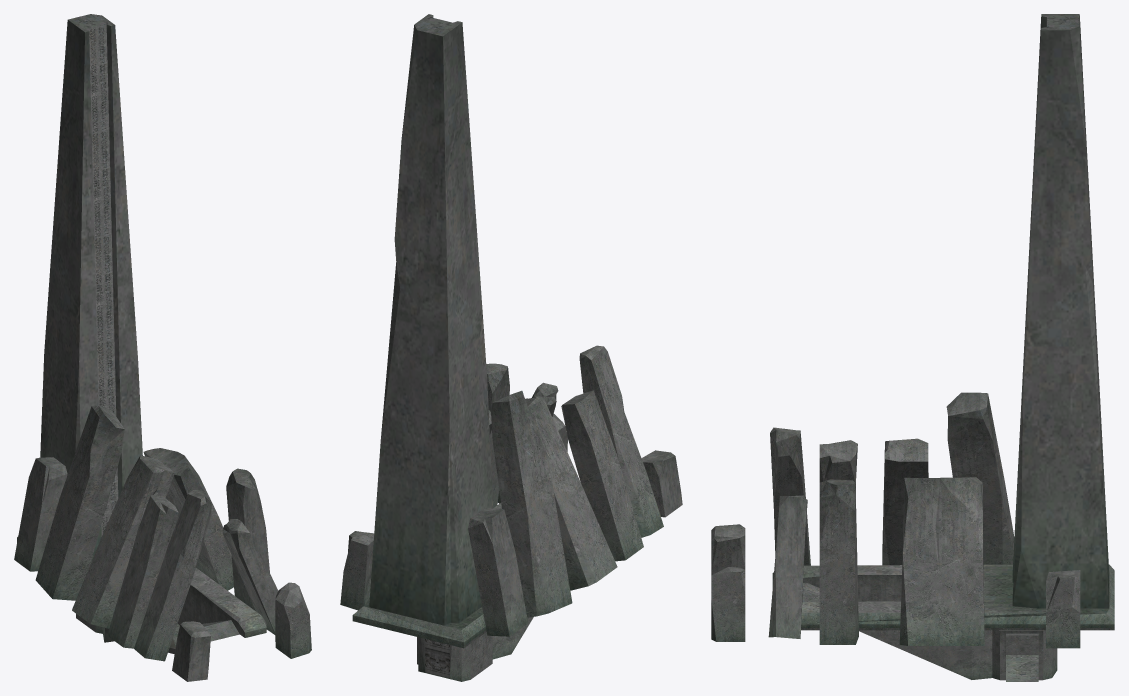
The model's file is thm_yavn_jedi_enclave_dark_r0_exterior_mesh_l1.fbx.
3 views of the same model, side by side, from view 1: azimuth 30°, elevation 25°; view 2: azimuth 150°, elevation 25°; view 3: azimuth 270°, elevation 25° (orthographic). The views are drawn at different scales.
Visible parts, largest first — view 1: mesh_node; view 2: mesh_node; view 3: mesh_node.
Part boxes in pixels (box(x1,y1,x2,y2)): mesh_node: box(14, 14, 311, 681); mesh_node: box(340, 14, 682, 681); mesh_node: box(711, 14, 1114, 681).
Size of the model in its own units: 12.3 by 41.69 by 23.63.
